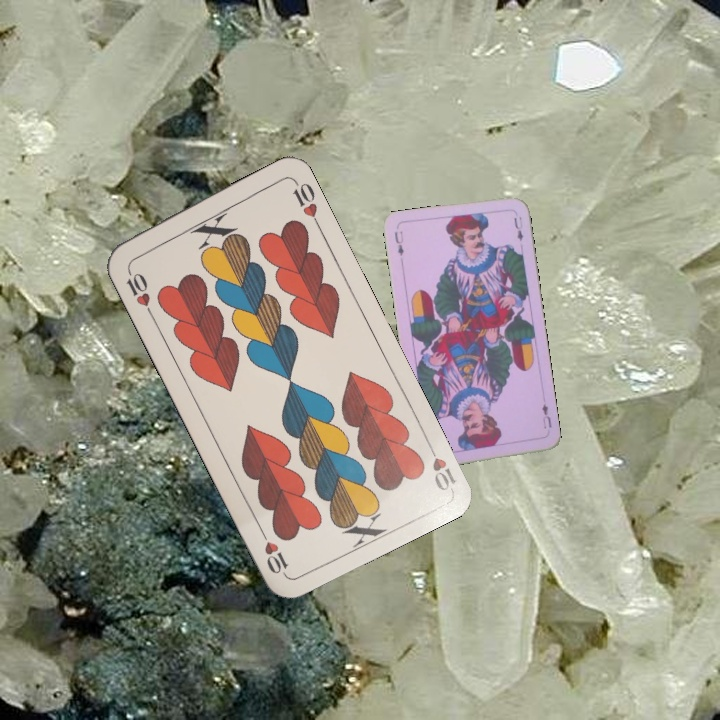EU: (538, 399, 554, 431), (390, 227, 406, 258)
H10: (422, 437, 459, 494), (122, 263, 156, 318)
